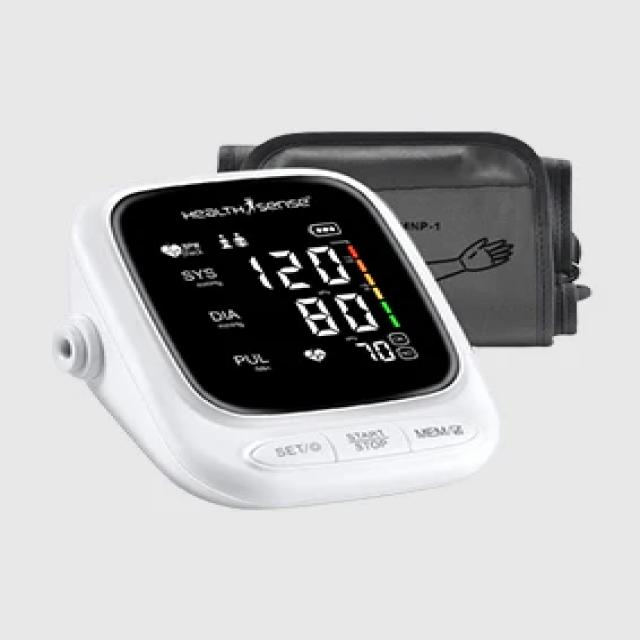dia: (284, 277, 390, 350)
pul: (341, 326, 403, 376)
ssd: (117, 161, 450, 428)
sys: (234, 232, 360, 297)
